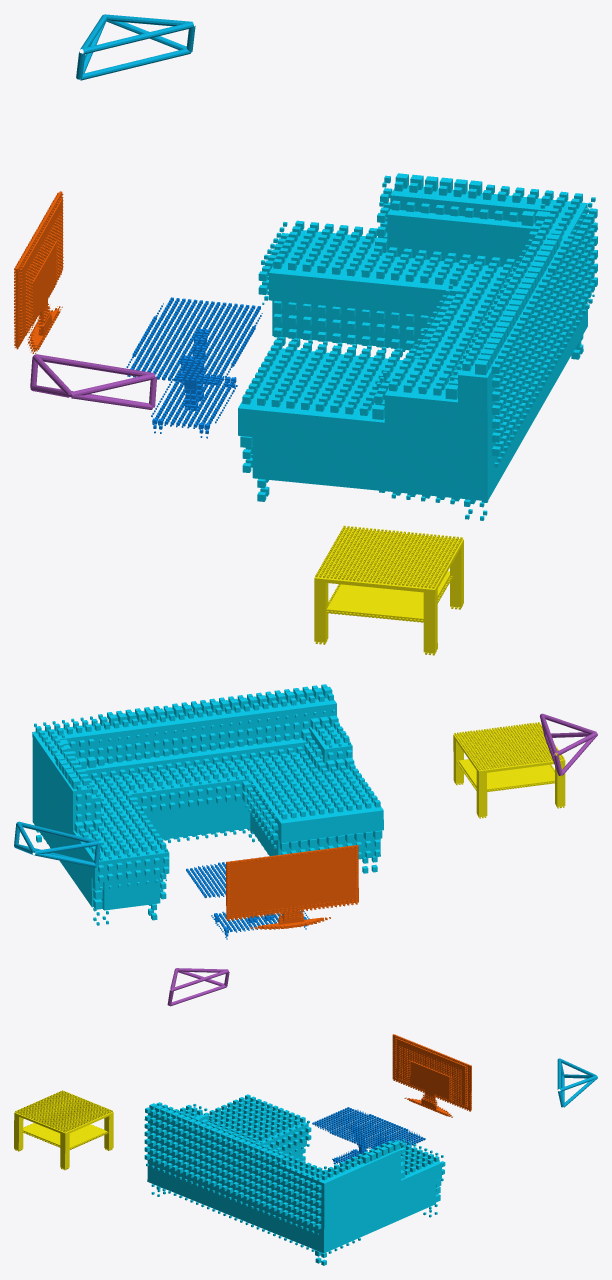
The picture shows the model from 3 angles, top to bottom: view 1: azimuth 30°, elevation 25°; view 2: azimuth 150°, elevation 25°; view 3: azimuth 270°, elevation 25°; orthographic projection. The views are drawn at different scales.
Parts seen in each view (by area): view 1: Node; view 2: Node; view 3: Node.
Boxes of the visible parts, x1,y1,x2,y2 form: Node: (14,14,597,655); Node: (14,684,597,939); Node: (14,968,597,1265).
Size of the model in its own units: 4.75 by 1.58 by 6.47.
